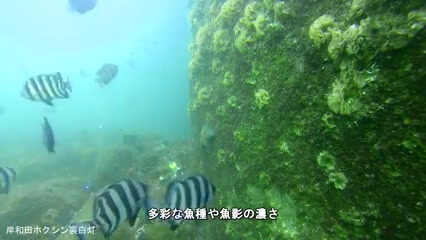ishidai: (74, 177, 160, 234), (156, 174, 222, 228), (23, 74, 74, 105)
